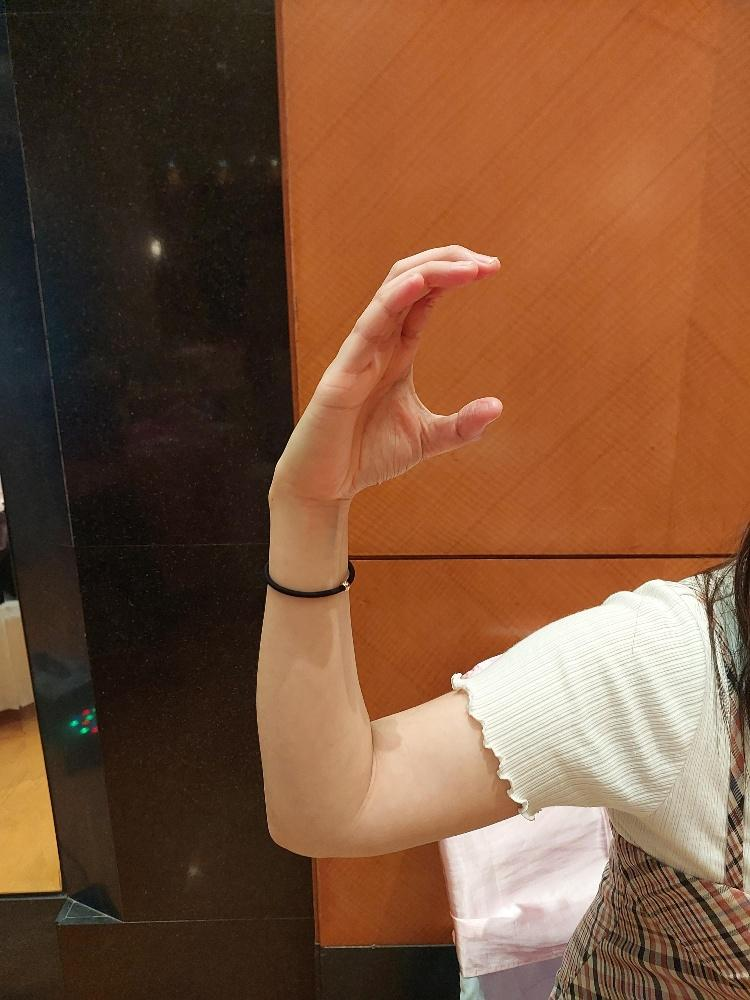c: (303, 241, 503, 505)
